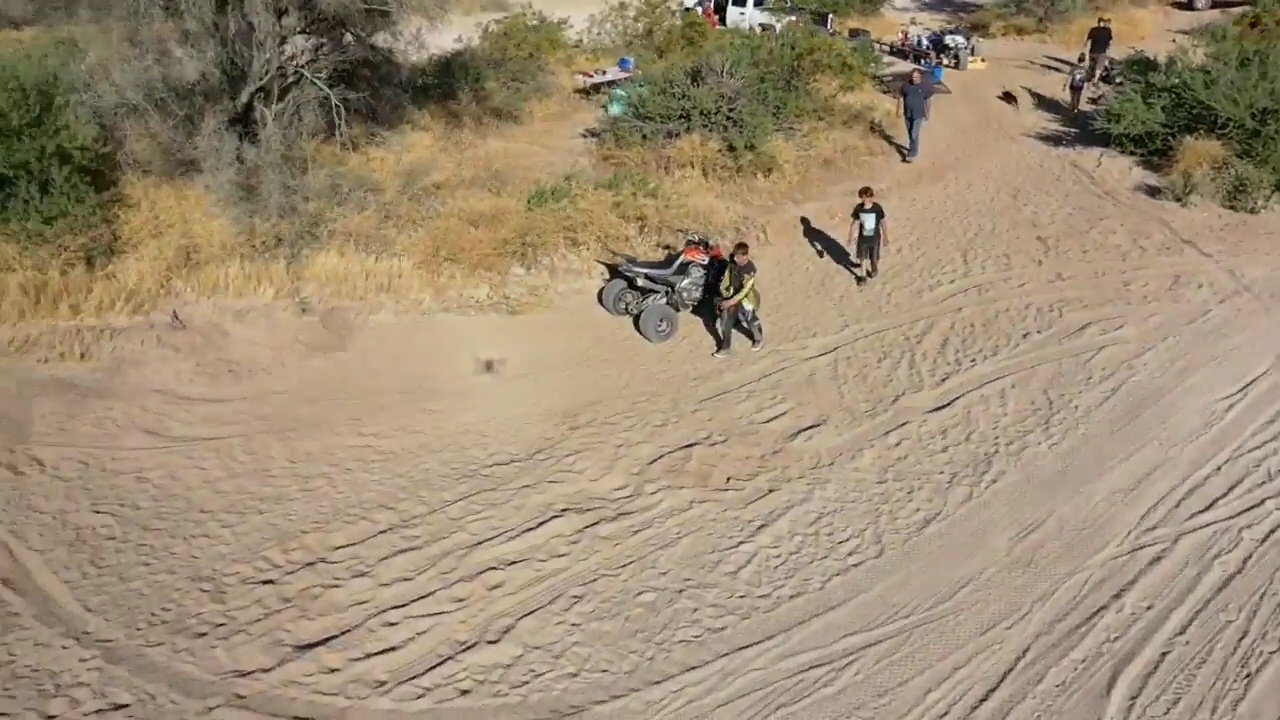insan: (709, 237, 766, 356), (892, 66, 939, 161), (847, 184, 889, 285), (1085, 13, 1117, 85), (1060, 54, 1093, 107)
